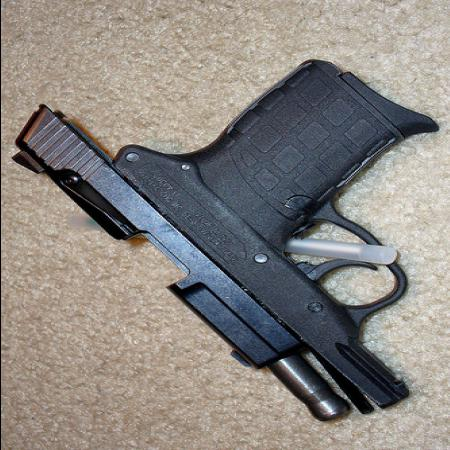Pistol: (10, 49, 429, 421)
